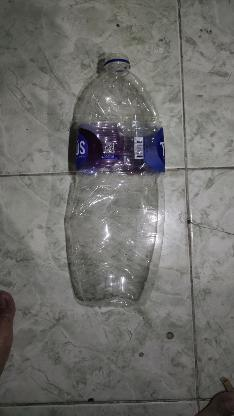Plastic Bottle: (64, 52, 166, 308), (68, 53, 166, 175)
